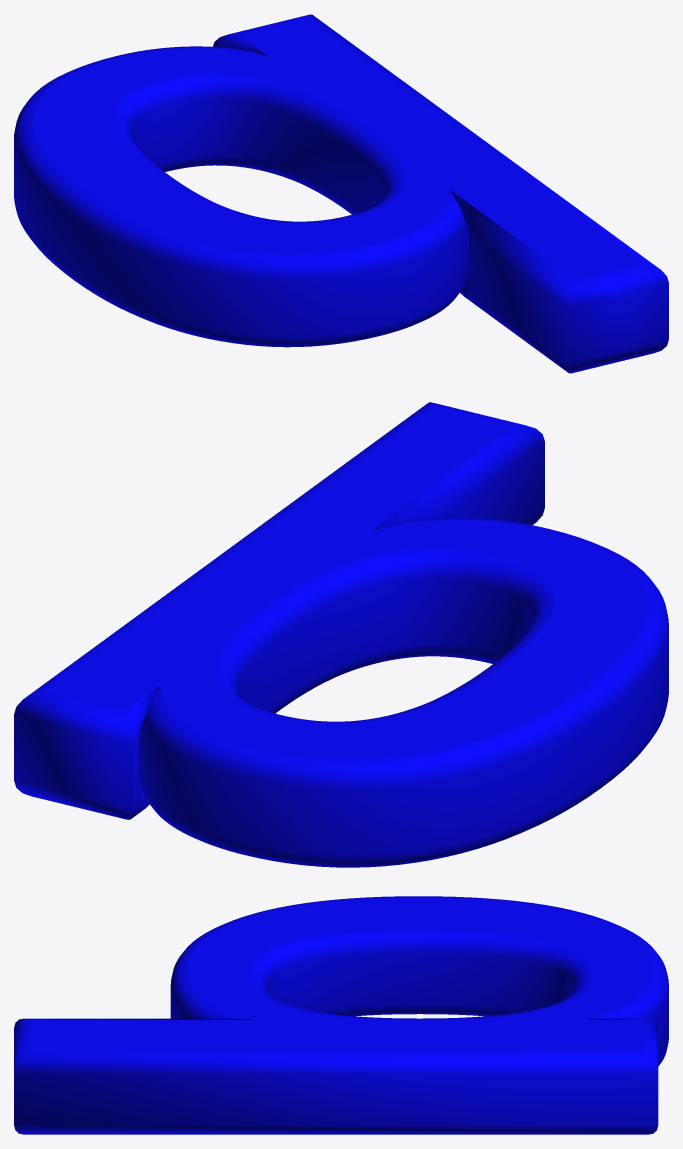
The picture shows the model from 3 angles, top to bottom: view 1: azimuth 30°, elevation 25°; view 2: azimuth 150°, elevation 25°; view 3: azimuth 270°, elevation 25°; orthographic projection. The views are drawn at different scales.
Parts seen in each view (by area): view 1: 113; view 2: 113; view 3: 113.
Part boxes in pixels (<box>): 113: <box>14,14,668,373</box>; 113: <box>14,402,668,867</box>; 113: <box>14,896,668,1134</box>.
Bounding box in the file's own units: 0.6991 × 0.16 × 1.16.
